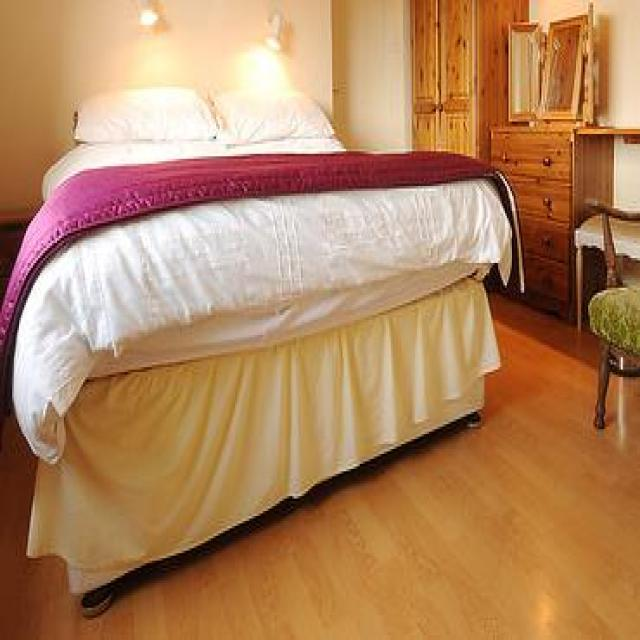bed: (0, 104, 522, 615)
